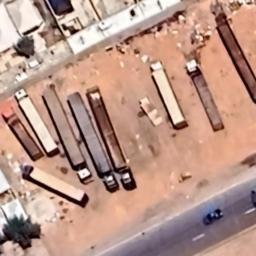truck: (82, 85, 140, 190), (62, 85, 118, 191), (38, 79, 92, 186), (209, 5, 256, 104), (24, 156, 92, 208), (0, 98, 52, 164), (144, 56, 187, 132), (183, 58, 227, 132), (14, 86, 58, 152)
unknown: (203, 205, 225, 227)
